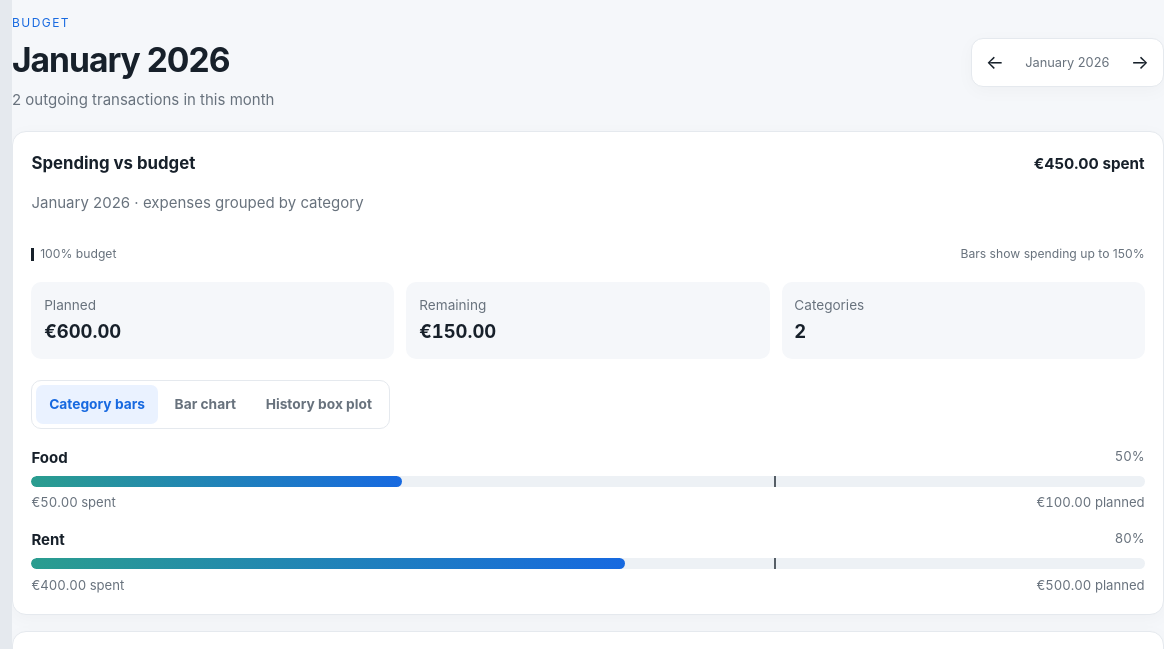
Test: plan tab › shows historical spending in the box plot view
Click the tab "History box plot" at (319, 404), box x1=253 y1=385 x2=385 y2=424
(page scrolled)
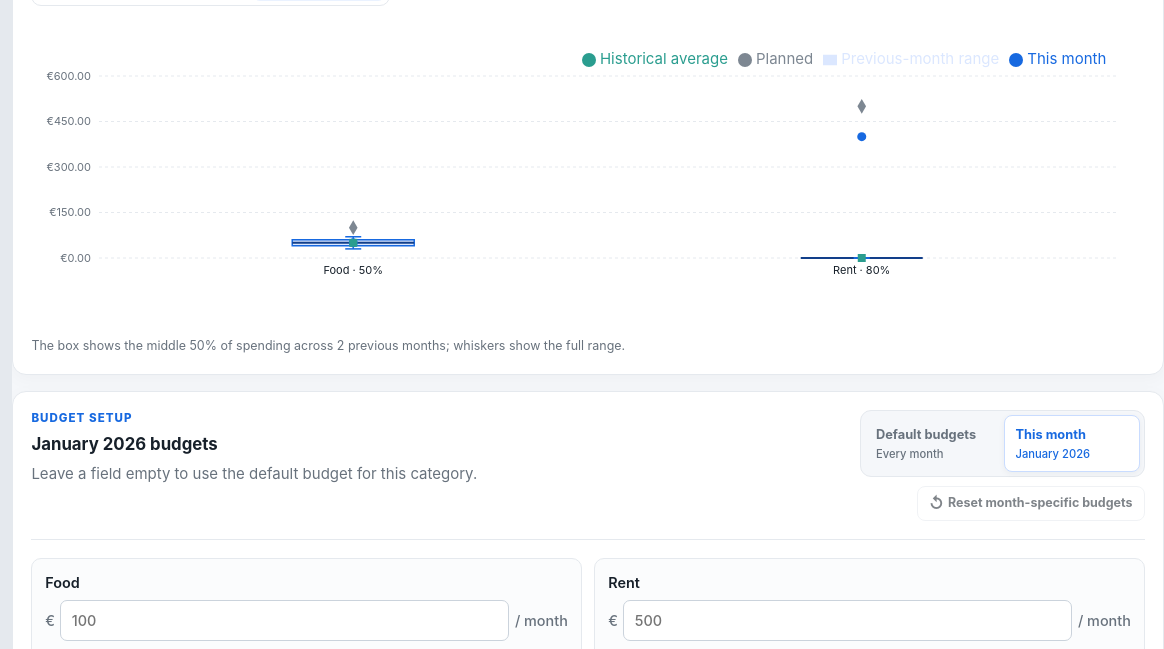
Now the picture named "Historical spending box plot" is shown, box x1=31 y1=24 x2=1145 y2=356
Now the text "middle 50% of spending across 2 previous months" is shown, box x1=31 y1=338 x2=625 y2=353
